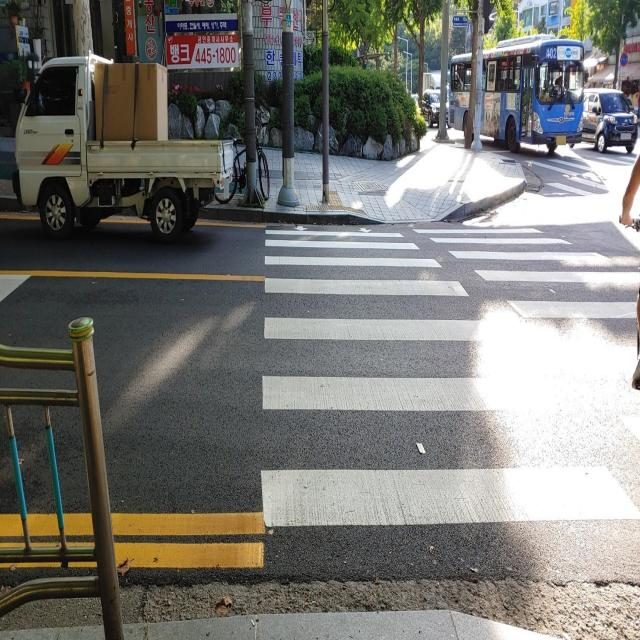횡단보도: (256, 218, 640, 534)
